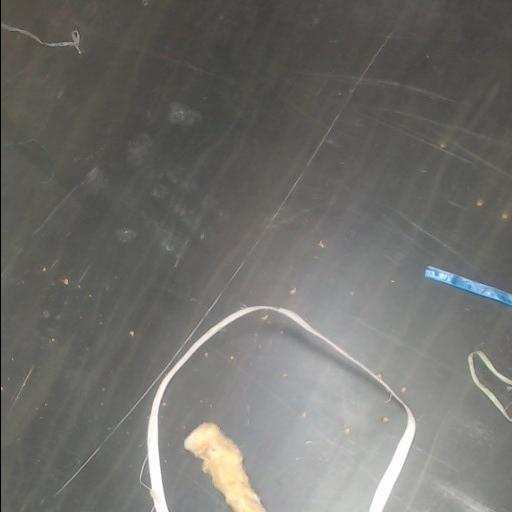conveyor belt: (1, 0, 512, 511), (161, 312, 404, 511)
jute: (185, 422, 265, 511)
thread: (146, 305, 415, 511), (424, 266, 512, 307), (467, 350, 512, 422), (1, 23, 81, 53)
